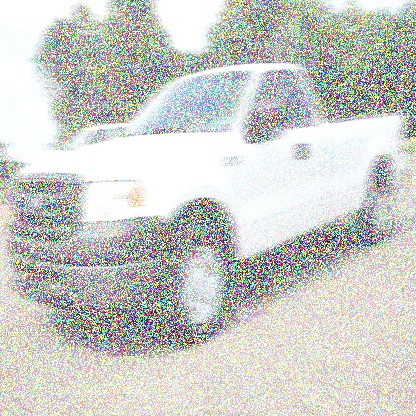Vehicle: (7, 65, 408, 344)
